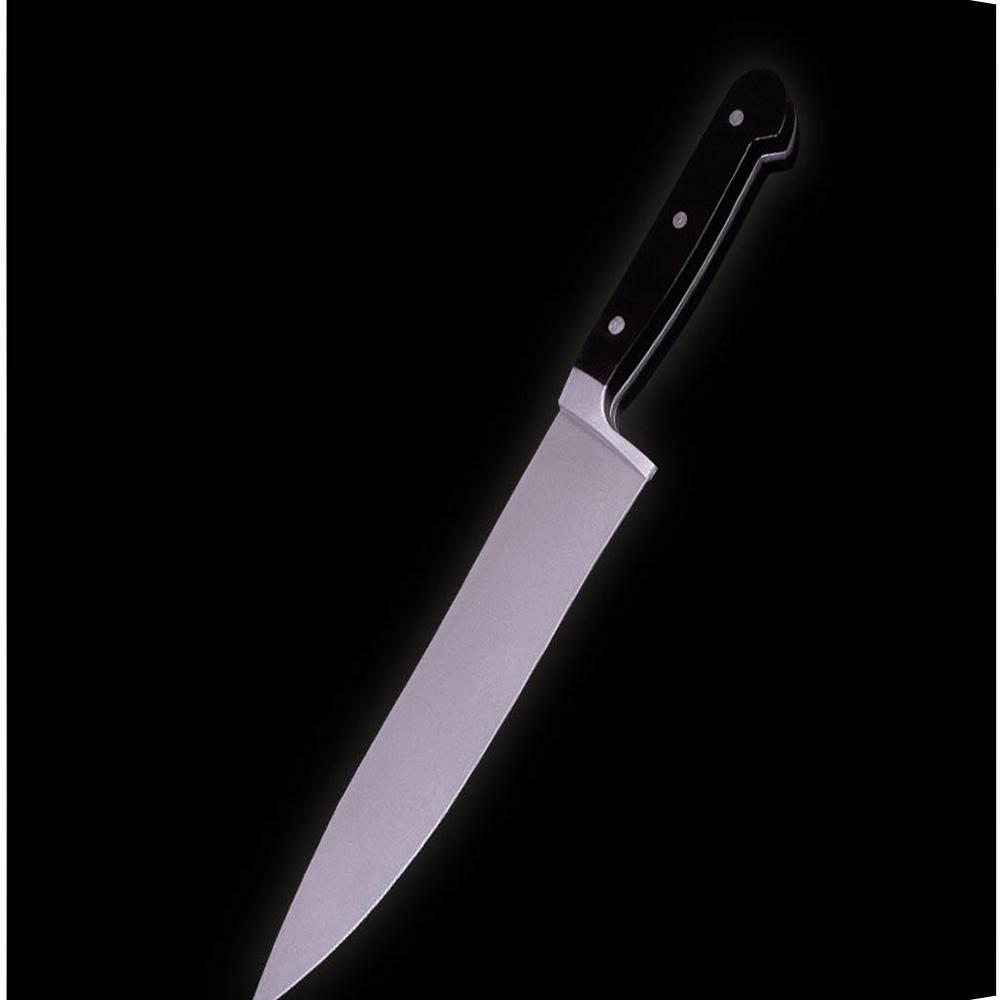knife: (253, 62, 805, 1000)
